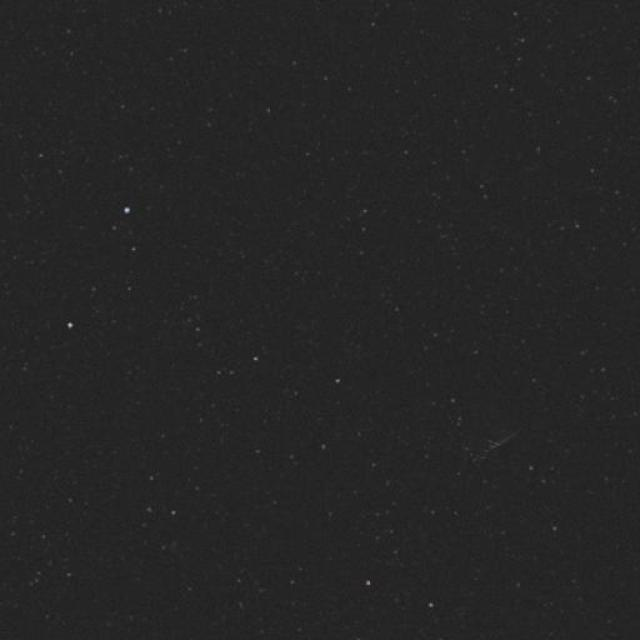debris: (454, 386, 530, 469)
